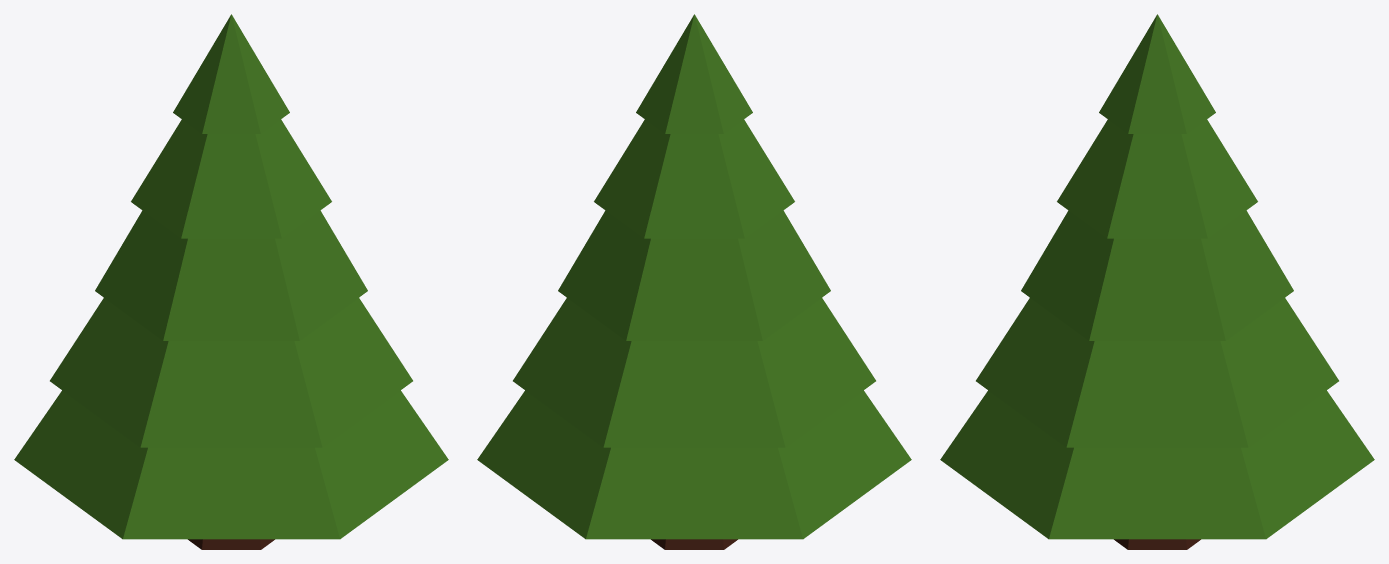
File: Pine.fbx
3 views of the same model, side by side, from view 1: azimuth 30°, elevation 25°; view 2: azimuth 150°, elevation 25°; view 3: azimuth 270°, elevation 25° (orthographic).
Visible parts, largest first — view 1: Cylinder; view 2: Cylinder; view 3: Cylinder.
Boxes of the visible parts, x1,y1,x2,y2 form: Cylinder: [14, 14, 448, 549]; Cylinder: [477, 14, 911, 549]; Cylinder: [940, 14, 1374, 549].
Bounding box in the file's own units: 194 × 292 × 224.
